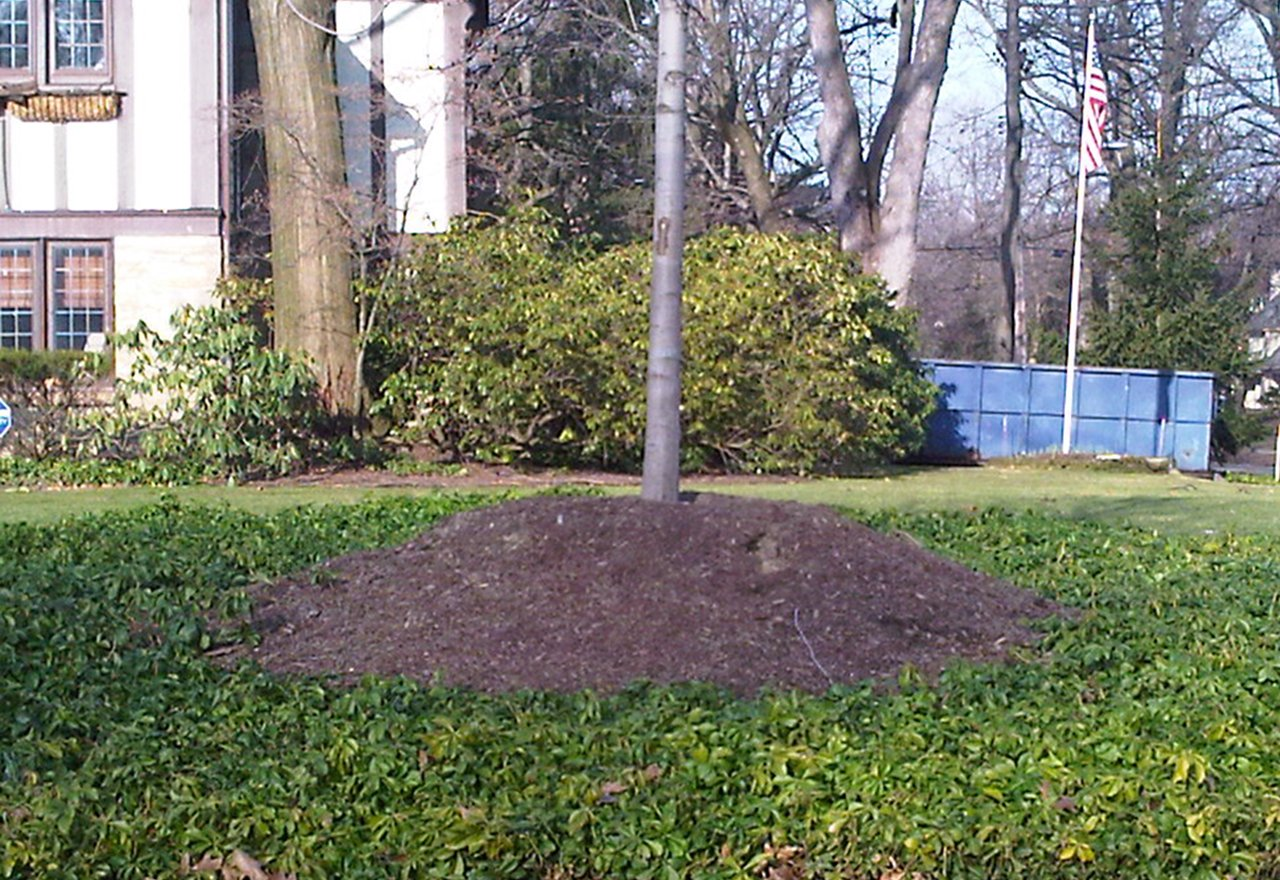dirt: (257, 497, 1058, 689)
grass: (264, 694, 1273, 873), (8, 493, 257, 868), (956, 473, 1268, 684)
tree: (253, 4, 357, 397), (640, 39, 685, 501)
